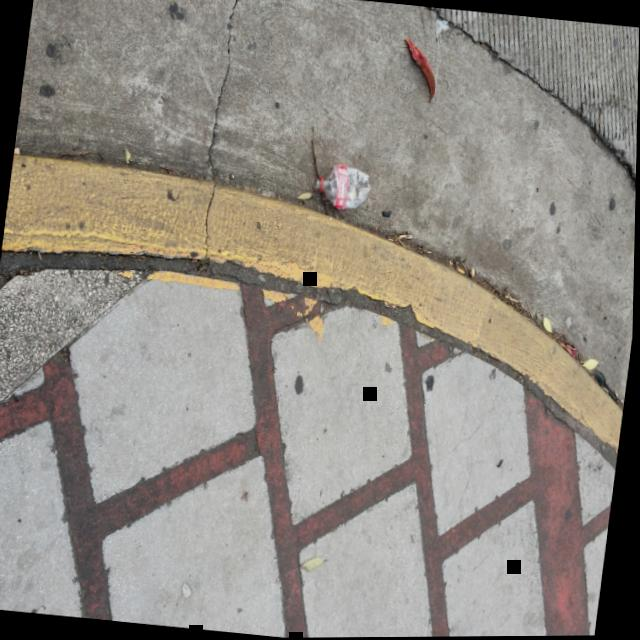Cigarette: (457, 267, 465, 272), (13, 148, 19, 154)
Clear plastic bottle: (313, 164, 370, 209)
